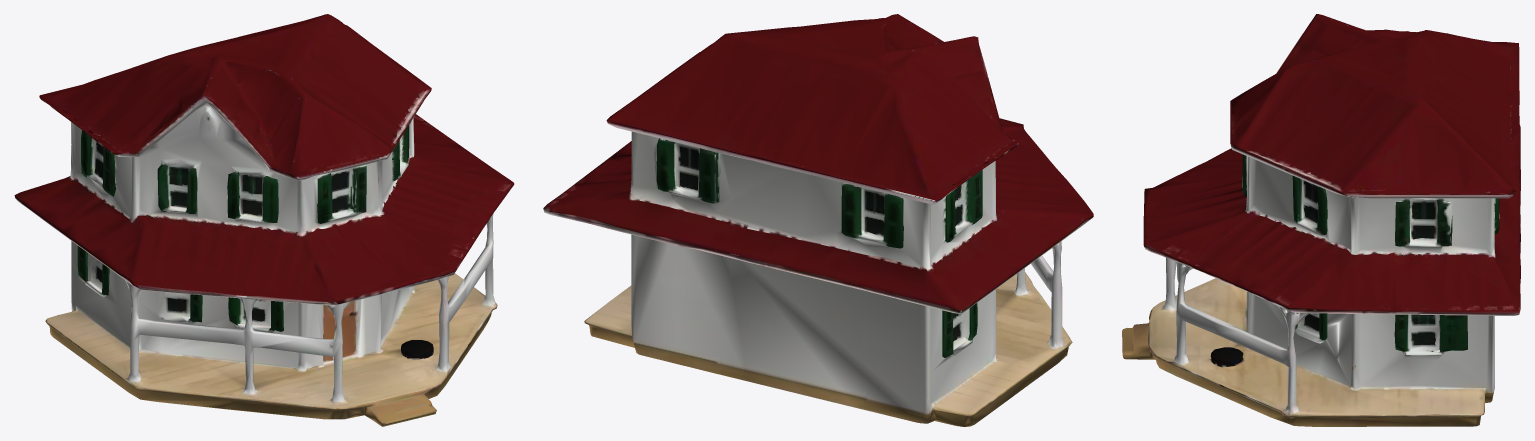
File: house_farm.glb
The picture shows the model from 3 angles, left to right: view 1: azimuth 30°, elevation 25°; view 2: azimuth 150°, elevation 25°; view 3: azimuth 270°, elevation 25°; orthographic projection. The views are drawn at different scales.
Bounding box in the file's own units: 0.9983 × 0.6985 × 0.8979.
Materials: 1 (1 with a texture image).
